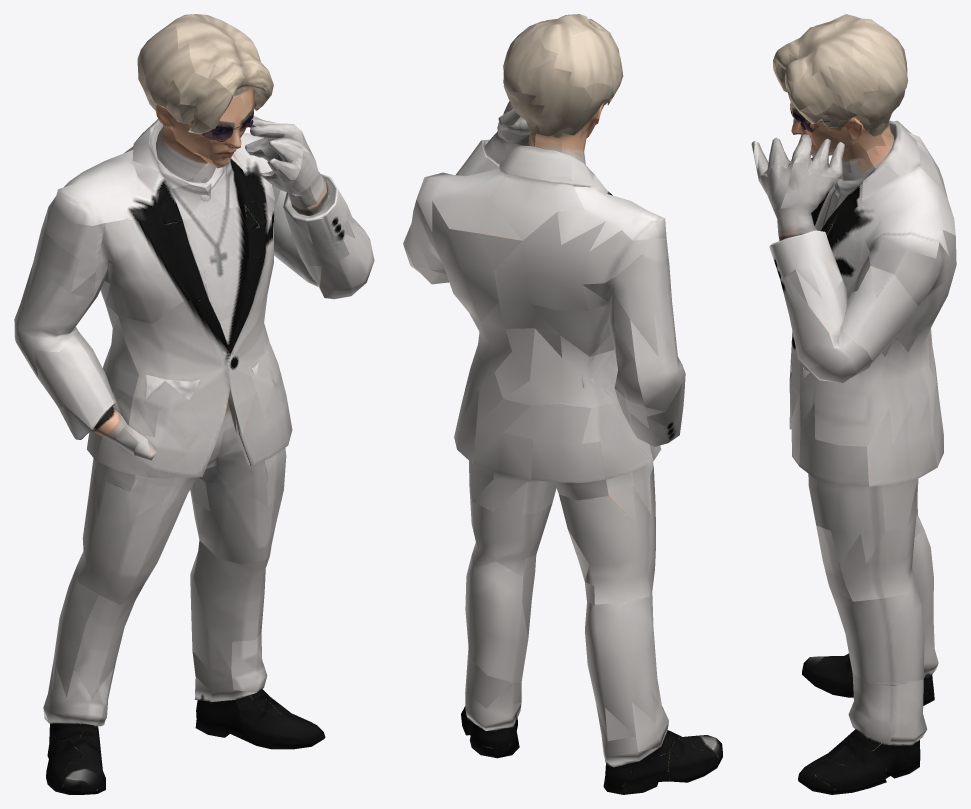
File: five_m.glb
The picture shows the model from 3 angles, left to right: view 1: azimuth 30°, elevation 25°; view 2: azimuth 150°, elevation 25°; view 3: azimuth 270°, elevation 25°; orthographic projection.
Parts seen in each view (by area): view 1: mesh_node; view 2: mesh_node; view 3: mesh_node.
Part boxes in pixels (bbox=[...]): mesh_node: bbox=[14, 14, 374, 794]; mesh_node: bbox=[403, 14, 722, 794]; mesh_node: bbox=[751, 14, 956, 794].
Size of the model in its own units: 0.4492 by 1 by 0.2568.
Materials: 1 (1 with a texture image).
